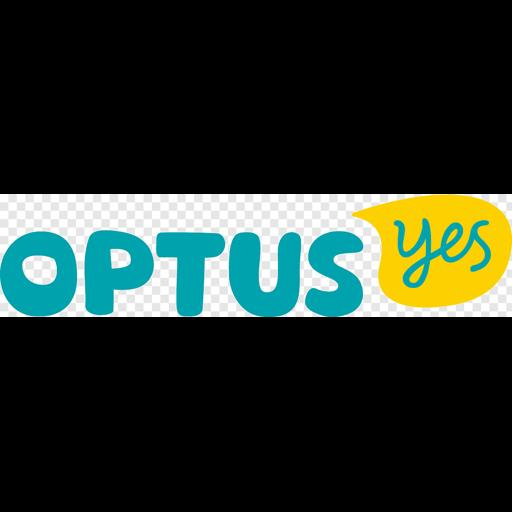Singtel Optus: (0, 194, 512, 317)
